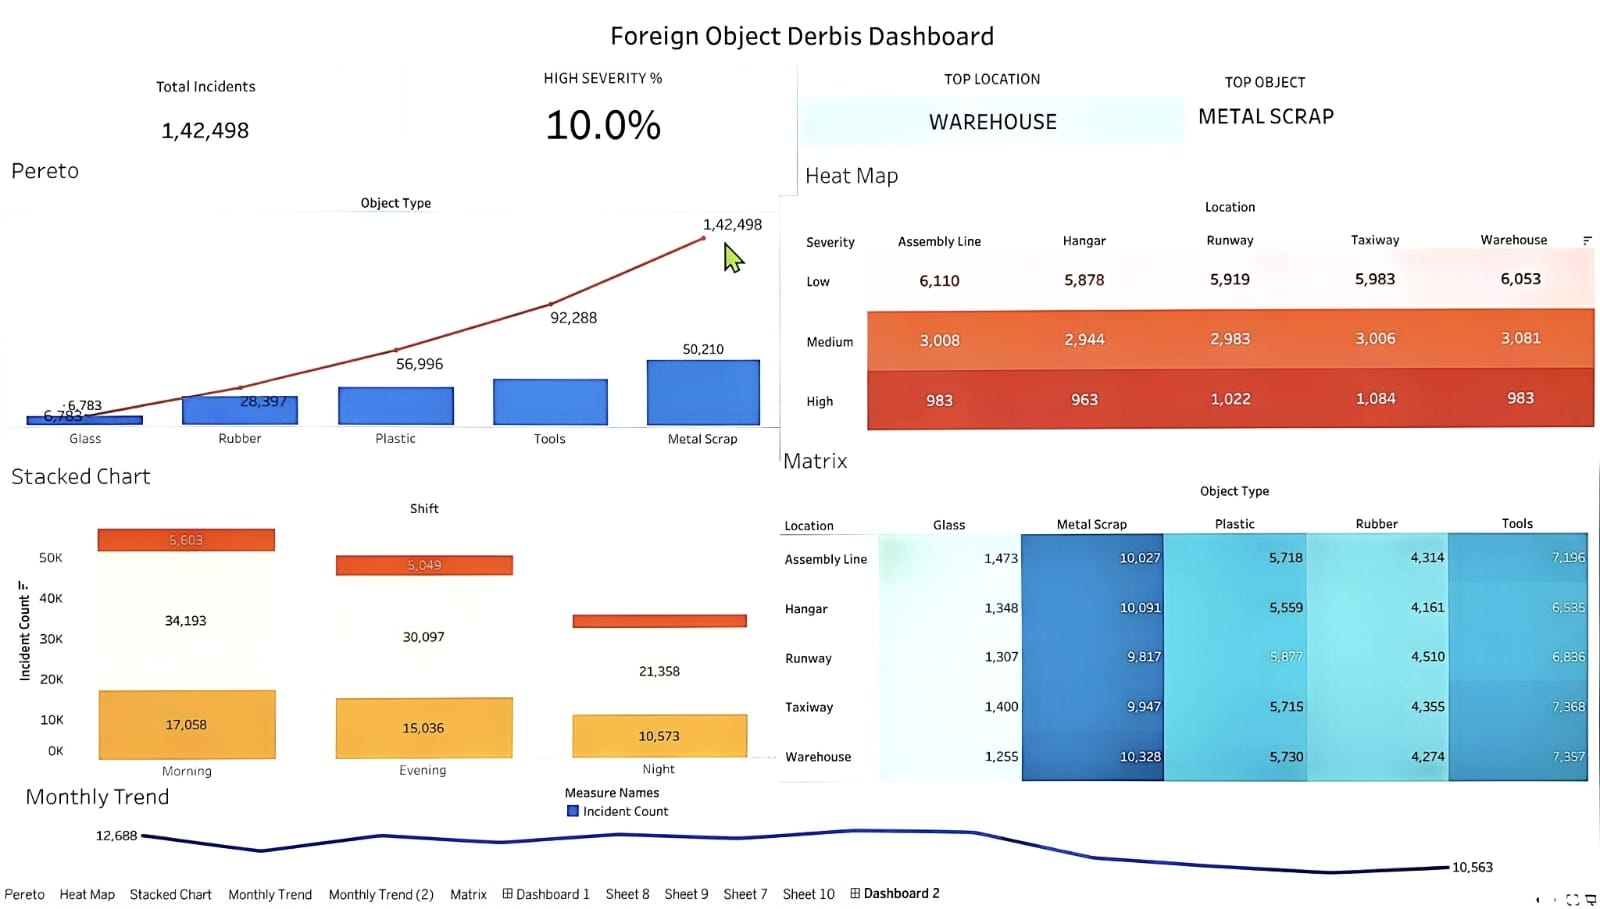

The page's visual inventory and layout, read from the dashboard file:
{"tool":"tableau","page":{"name":"Dashboard 2","canvas":[1000,1000],"units":"permille","ordinal":1},"visuals":[{"type":"text","box":[4.9,8.3,990.2,78.1]},{"type":"worksheet","title":"Sheet 8","mark":"Automatic","box":[257.1,79.2,233.9,95.8]},{"type":"worksheet","title":"Sheet 9","mark":"Automatic","rows":["Location"],"box":[498.5,80.2,242.5,90.6]},{"type":"worksheet","title":"Sheet 10","mark":"Automatic","box":[744.6,84.4,247.3,96.9]},{"type":"worksheet","title":"Sheet 7","mark":"Automatic","box":[8.9,89.6,236.6,94.8]},{"type":"worksheet","title":"Pereto","mark":"Automatic","rows":["Incident_Count"],"cols":["Object_Type"],"box":[5.4,177.1,480.4,349]},{"type":"worksheet","title":"Heat Map","mark":"Square","rows":["Severity"],"cols":["Location"],"box":[499.1,183.3,497.3,308.3]},{"type":"worksheet","title":"Matrix","mark":"Square","rows":["Location"],"cols":["Object_Type"],"box":[484.8,504.2,508.9,388.5]},{"type":"worksheet","title":"Stacked Chart","mark":"Bar","rows":["Incident_Count"],"cols":["Shift"],"box":[6.2,521.9,475.9,366.7]},{"type":"legend","title":"Monthly Trend (2)","param":"[federated.07a4qcj0099afj1g83zvf0ixs1v2].[:Measure Names]","box":[349.8,893.8,85.3,44.8]}]}

Visuals, with their boxes on the dashboard's canvas, which has no fixed pixel size, in thousandths of its width and height (x1, y1, x2, y2). These are canvas units, not pixel positions in the 1600x909 screenshot, which may show the page scaled, cropped or inside an application window:
text: <region>5, 8, 995, 86</region>
"Sheet 8" worksheet: <region>257, 79, 491, 175</region>
"Sheet 9" worksheet: <region>498, 80, 741, 171</region>
"Sheet 10" worksheet: <region>745, 84, 992, 181</region>
"Sheet 7" worksheet: <region>9, 90, 246, 184</region>
"Pereto" worksheet: <region>5, 177, 486, 526</region>
"Heat Map" worksheet (Square marks): <region>499, 183, 996, 492</region>
"Matrix" worksheet (Square marks): <region>485, 504, 994, 893</region>
"Stacked Chart" worksheet (Bar marks): <region>6, 522, 482, 889</region>
"Monthly Trend (2)" legend: <region>350, 894, 435, 939</region>
